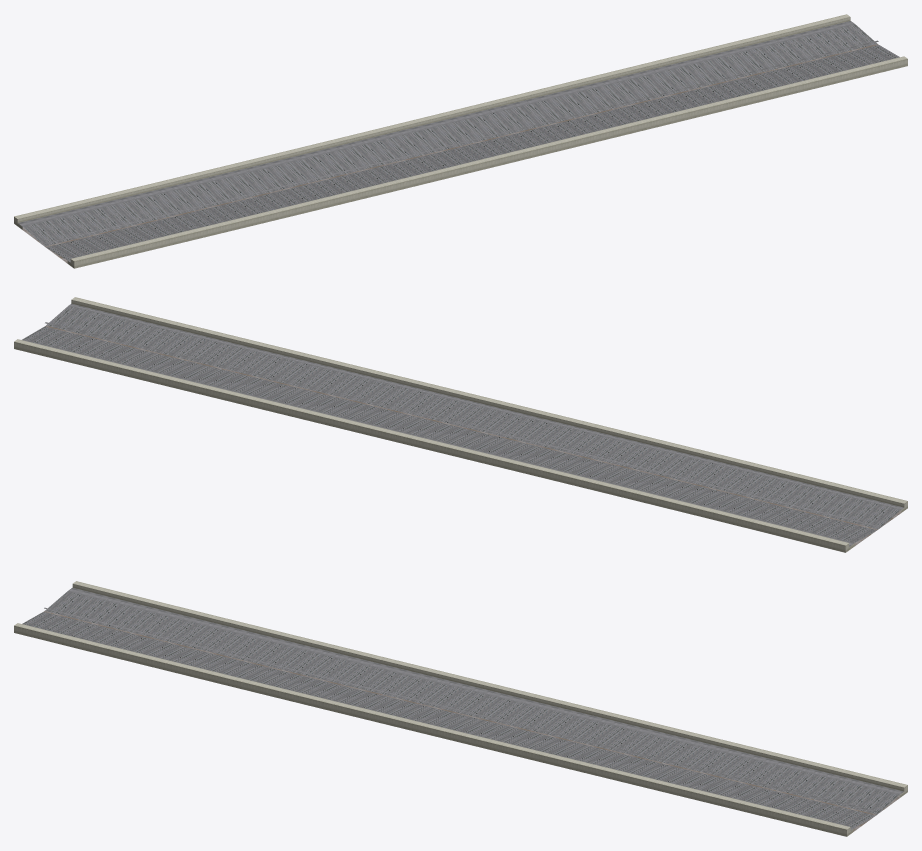
The model's file is cs_newbridge.obj.
3 renders of one model, top to bottom at view 1: azimuth 30°, elevation 25°; view 2: azimuth 150°, elevation 25°; view 3: azimuth 330°, elevation 25°, orthographic.
Parts seen in each view (by area): view 1: cS_newbridge; view 2: cS_newbridge; view 3: cS_newbridge.
Part boxes in pixels (x1,y1,x2,y2): cS_newbridge: [14, 14, 907, 268]; cS_newbridge: [14, 297, 907, 552]; cS_newbridge: [14, 581, 907, 836].
Bounding box in the file's own units: 263 × 2.2 × 33.95.
Materials: 3 (3 with a texture image).
